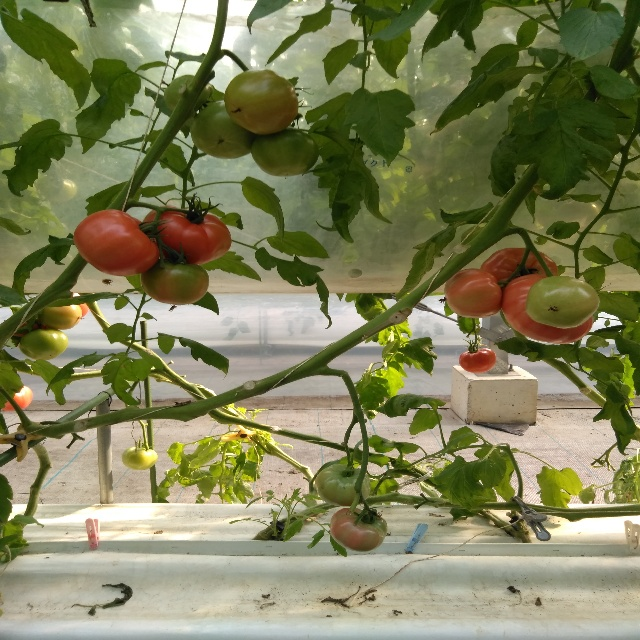b_fully_ripened: (502, 274, 593, 345), (73, 209, 160, 277), (142, 205, 232, 265), (459, 348, 496, 373), (1, 386, 33, 411)
b_green: (190, 100, 260, 159), (525, 275, 600, 329), (250, 125, 319, 177), (140, 258, 209, 305), (315, 464, 370, 507), (164, 75, 214, 115), (18, 328, 69, 360), (122, 446, 158, 470)
b_half_ripened: (223, 69, 299, 135), (480, 247, 558, 293), (445, 269, 504, 319), (330, 507, 387, 552), (38, 305, 82, 330)
